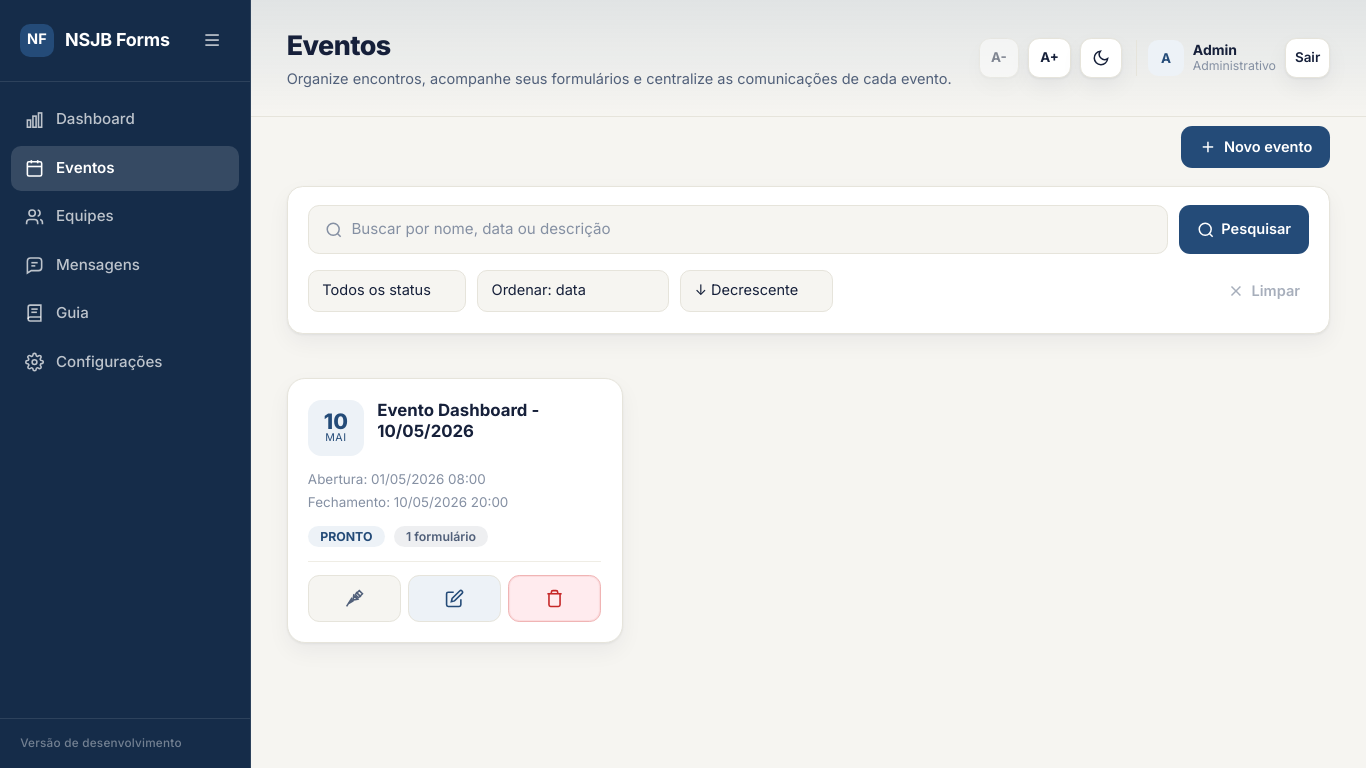
Test: App dashboard flow › exibe o menu Dashboard para admin e abre a tela
Click the button "Dashboard" at {"x": 125, "y": 120}, box [11,97,239,142]
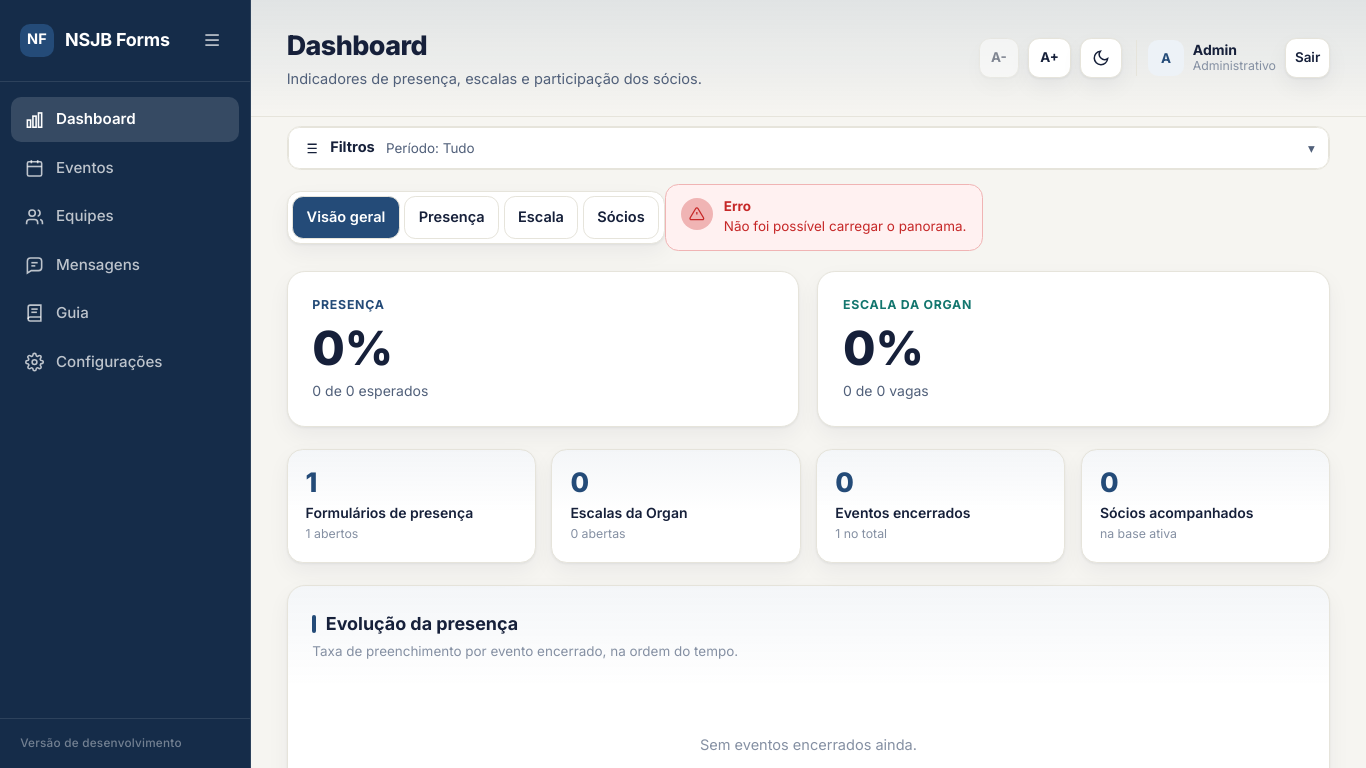
Check: the heading "Dashboard" is shown, box [287,29,427,61]
Check: the text "Indicadores de presença, escalas e participação dos sócios." is shown, box [287,69,702,91]
